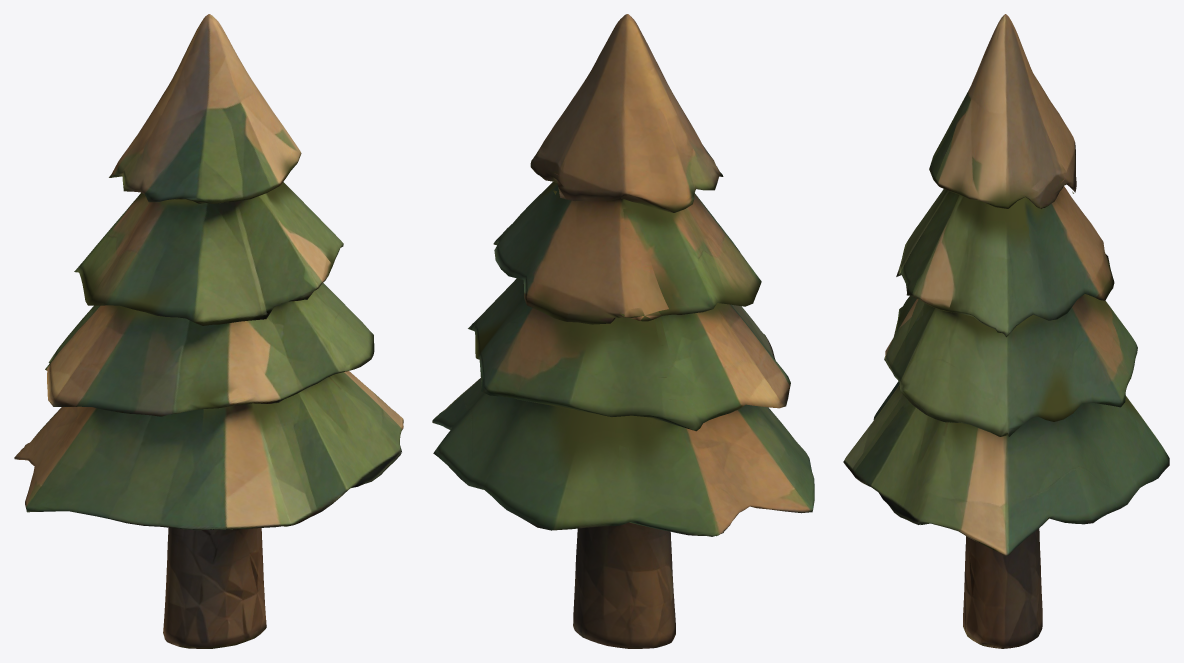
File: mesh_0.031_lev2.glb
3 renders of one model, left to right at view 1: azimuth 30°, elevation 25°; view 2: azimuth 150°, elevation 25°; view 3: azimuth 270°, elevation 25°, orthographic.
Parts seen in each view (by area): view 1: mesh_0.031_lev2; view 2: mesh_0.031_lev2; view 3: mesh_0.031_lev2.
Boxes of the visible parts, left/top/right/bottom form: mesh_0.031_lev2: left=14, top=14, right=403, bottom=648; mesh_0.031_lev2: left=432, top=14, right=814, bottom=648; mesh_0.031_lev2: left=843, top=14, right=1169, bottom=648.
Size of the model in its own units: 11.01 by 17.17 by 8.33.
1 material, 1 textured.
